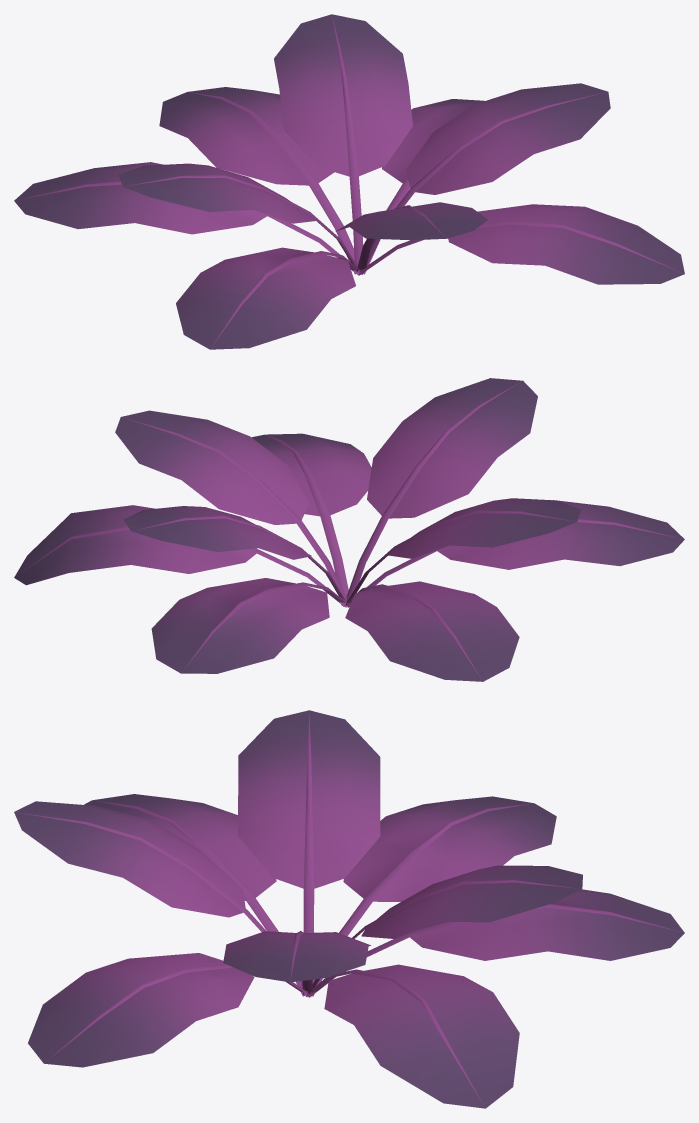
Rendered from plant_34.fbx.
3 views of the same model, one above another, from view 1: azimuth 30°, elevation 25°; view 2: azimuth 150°, elevation 25°; view 3: azimuth 270°, elevation 25° (orthographic). The views are drawn at different scales.
Parts seen in each view (by area): view 1: plant_34; view 2: plant_34; view 3: plant_34.
Boxes of the visible parts, left/top/right/bottom form: plant_34: left=14, top=14, right=684, bottom=349; plant_34: left=14, top=378, right=684, bottom=681; plant_34: left=14, top=710, right=684, bottom=1108.
Bounding box in the file's own units: 5.11 × 1.35 × 5.19.
